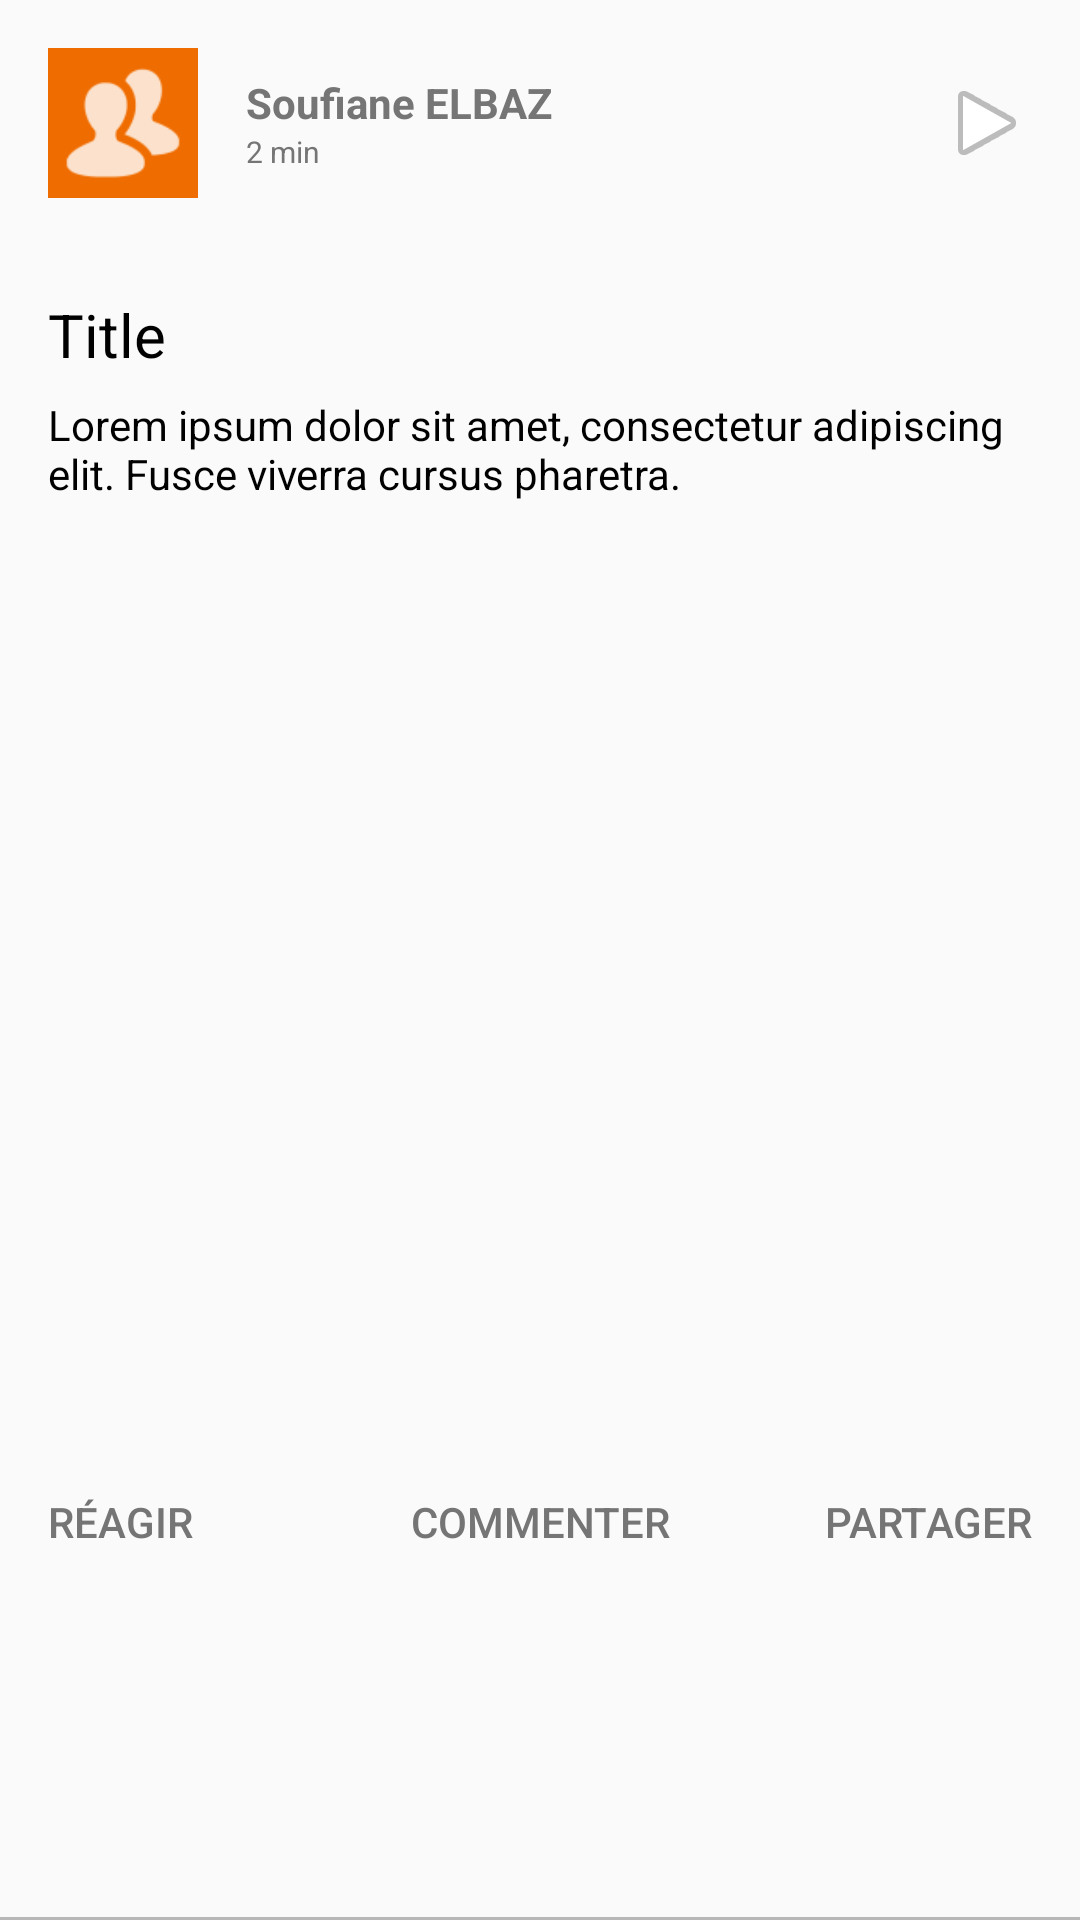

Where to tap for icons on this 1080 x 1920 app screen, as (x=x, y=y):
friendship: (x=123, y=123)
play: (x=987, y=123)
